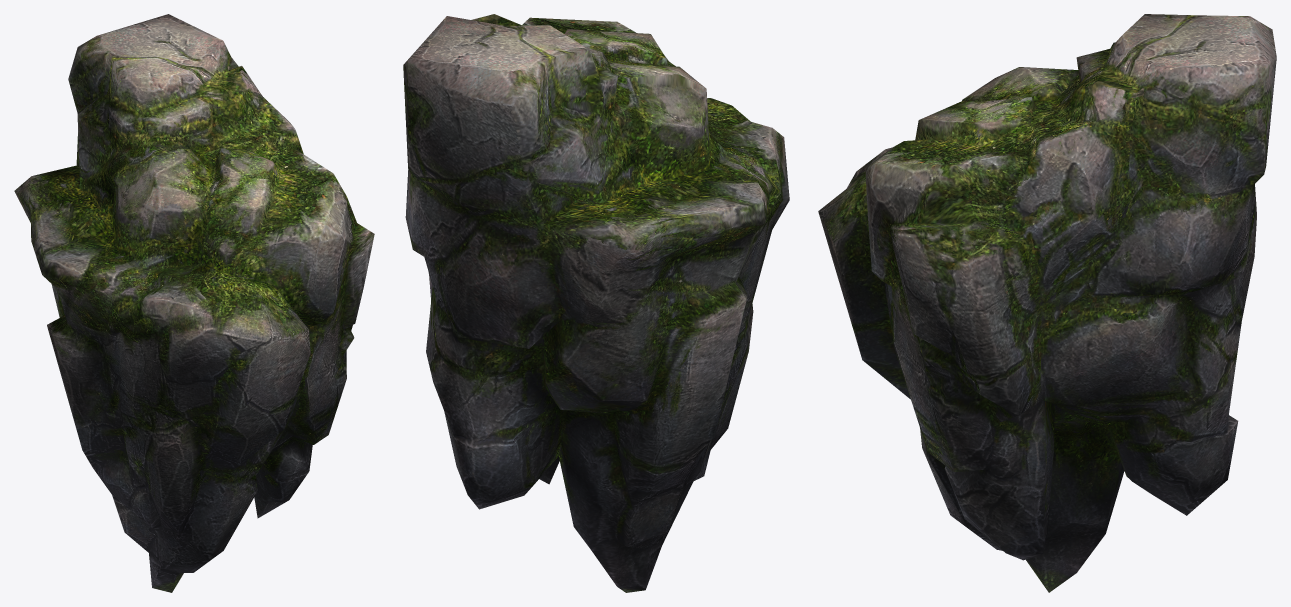
Rendered from ENV_TY_CJWJ_02_02.FBX.
3 views of the same model, side by side, from view 1: azimuth 30°, elevation 25°; view 2: azimuth 150°, elevation 25°; view 3: azimuth 270°, elevation 25° (orthographic). The views are drawn at different scales.
Visible parts, largest first — view 1: ENV_TY_CJWJ_02_02; view 2: ENV_TY_CJWJ_02_02; view 3: ENV_TY_CJWJ_02_02.
Boxes of the visible parts, x1,y1,x2,y2 form: ENV_TY_CJWJ_02_02: (14, 14, 374, 592); ENV_TY_CJWJ_02_02: (403, 14, 789, 592); ENV_TY_CJWJ_02_02: (818, 14, 1276, 592).
Bounding box in the file's own units: 607 × 1009 × 721.
